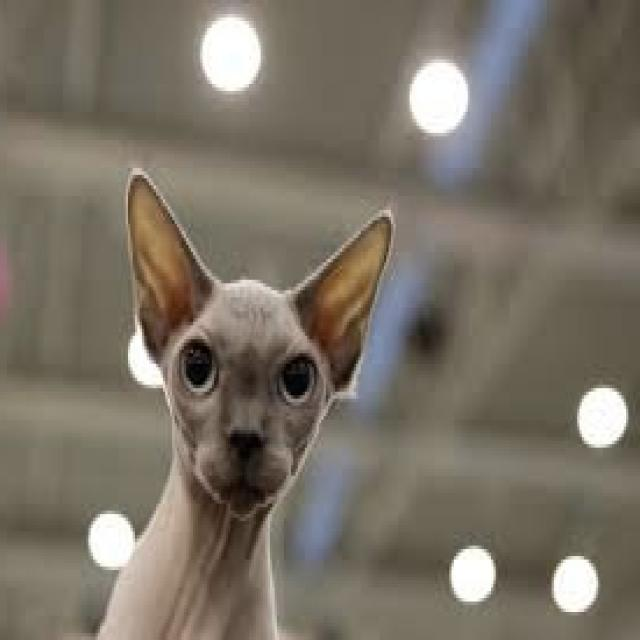cat: (98, 168, 393, 637)
